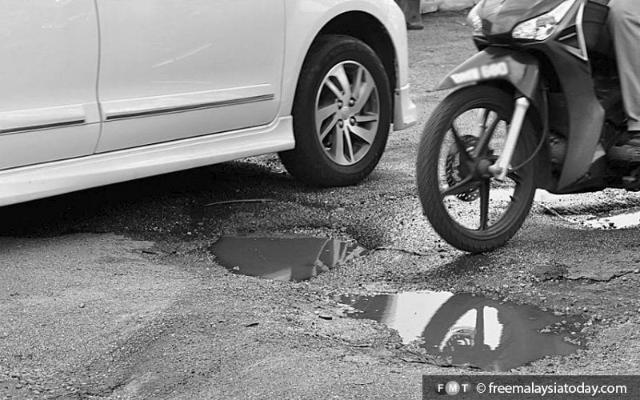Pothole: (331, 290, 594, 374), (202, 217, 380, 286)
